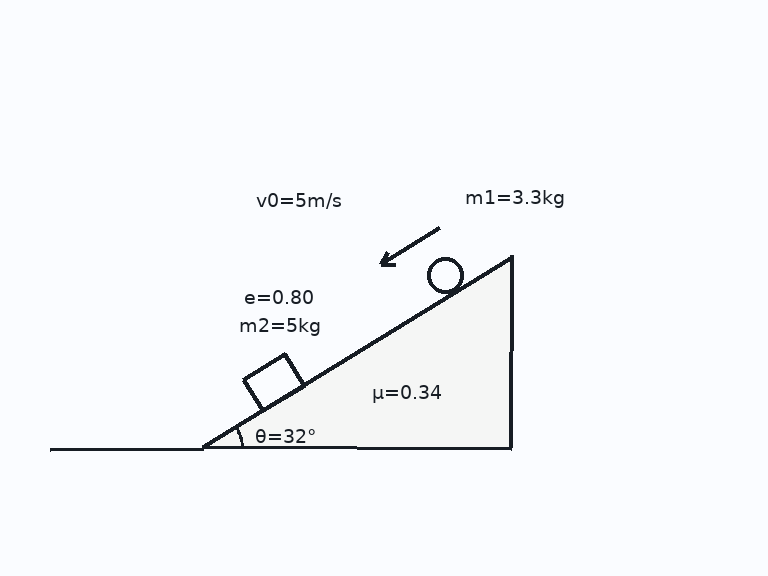ball: (425, 255, 465, 295)
block: (242, 352, 306, 412)
ramp: (200, 253, 513, 450)
